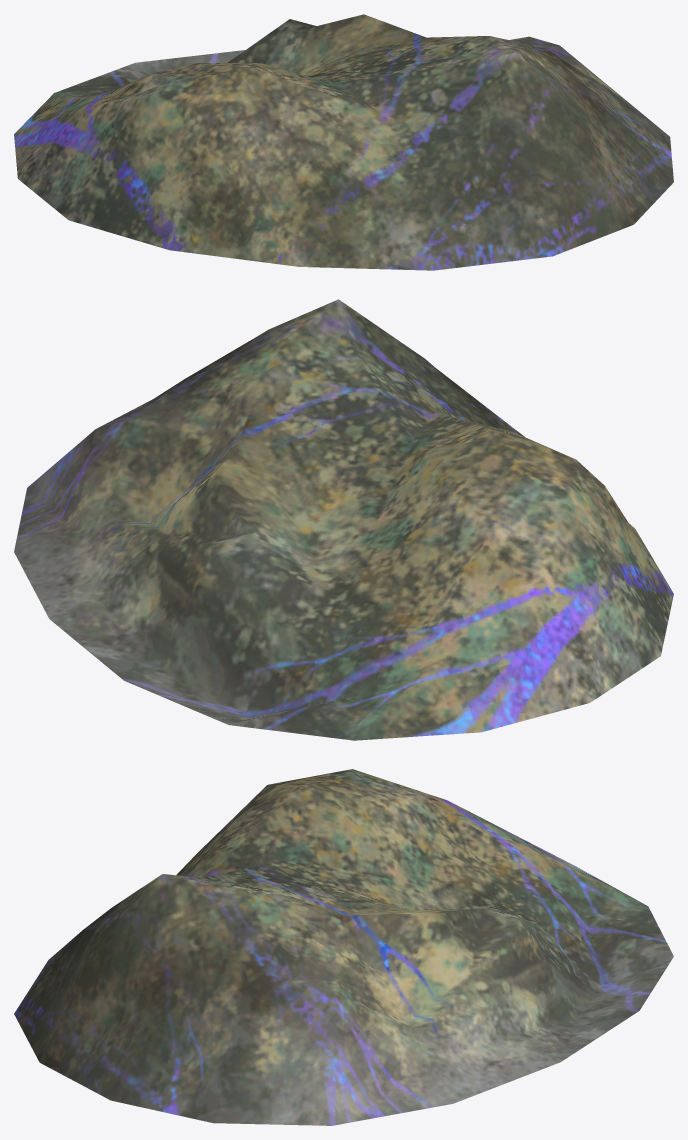
The model's file is Mold_02.obj.
The picture shows the model from 3 angles, top to bottom: view 1: azimuth 30°, elevation 25°; view 2: azimuth 150°, elevation 25°; view 3: azimuth 270°, elevation 25°; orthographic projection. The views are drawn at different scales.
Visible parts, largest first — view 1: Model_Mold_02; view 2: Model_Mold_02; view 3: Model_Mold_02.
Boxes of the visible parts, x1=… form: Model_Mold_02: x1=14, y1=14, x2=673, y2=270; Model_Mold_02: x1=14, y1=299, x2=673, y2=740; Model_Mold_02: x1=14, y1=769, x2=673, y2=1125.
Bounding box in the file's own units: 0.8056 × 0.2375 × 0.7884.
1 material, 1 textured.
